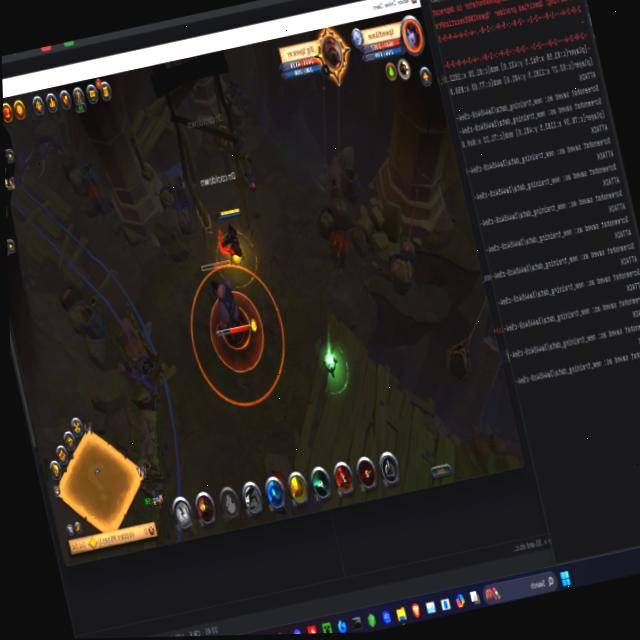ore: (196, 254, 255, 357), (26, 131, 59, 182), (8, 143, 38, 196), (46, 128, 72, 163)
red: (207, 203, 255, 273)
silver: (188, 262, 288, 412)
